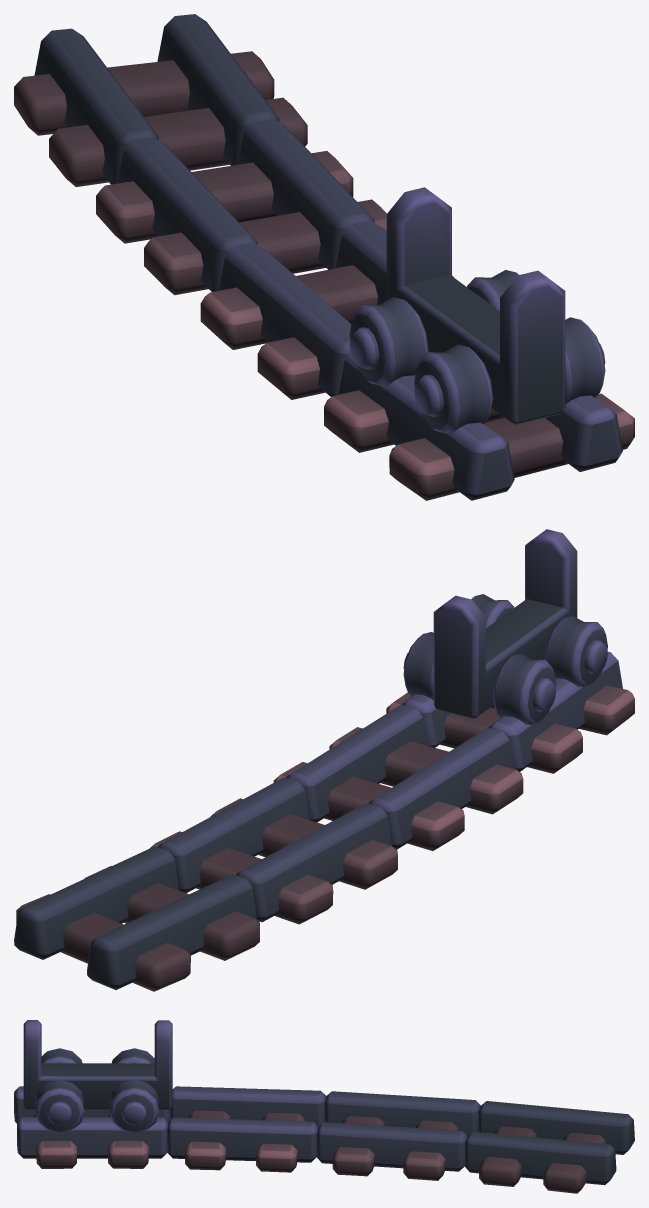
Rendered from undead_mine_rail_anim.fbx.
The picture shows the model from 3 angles, top to bottom: view 1: azimuth 30°, elevation 25°; view 2: azimuth 150°, elevation 25°; view 3: azimuth 270°, elevation 25°; orthographic projection. The views are drawn at different scales.
Parts seen in each view (by area): view 1: undead_mine_rail_anim, undead_minecart_base_anim; view 2: undead_mine_rail_anim, undead_minecart_base_anim; view 3: undead_mine_rail_anim, undead_minecart_base_anim.
Boxes of the visible parts, box(x1,y1,x2,y2) form: undead_mine_rail_anim: box(14, 14, 634, 500); undead_minecart_base_anim: box(349, 187, 605, 433); undead_mine_rail_anim: box(14, 651, 634, 991); undead_minecart_base_anim: box(403, 529, 607, 724); undead_mine_rail_anim: box(14, 1086, 634, 1193); undead_minecart_base_anim: box(23, 1020, 172, 1132).
Size of the model in its own units: 2.22 by 1.39 by 6.68.
